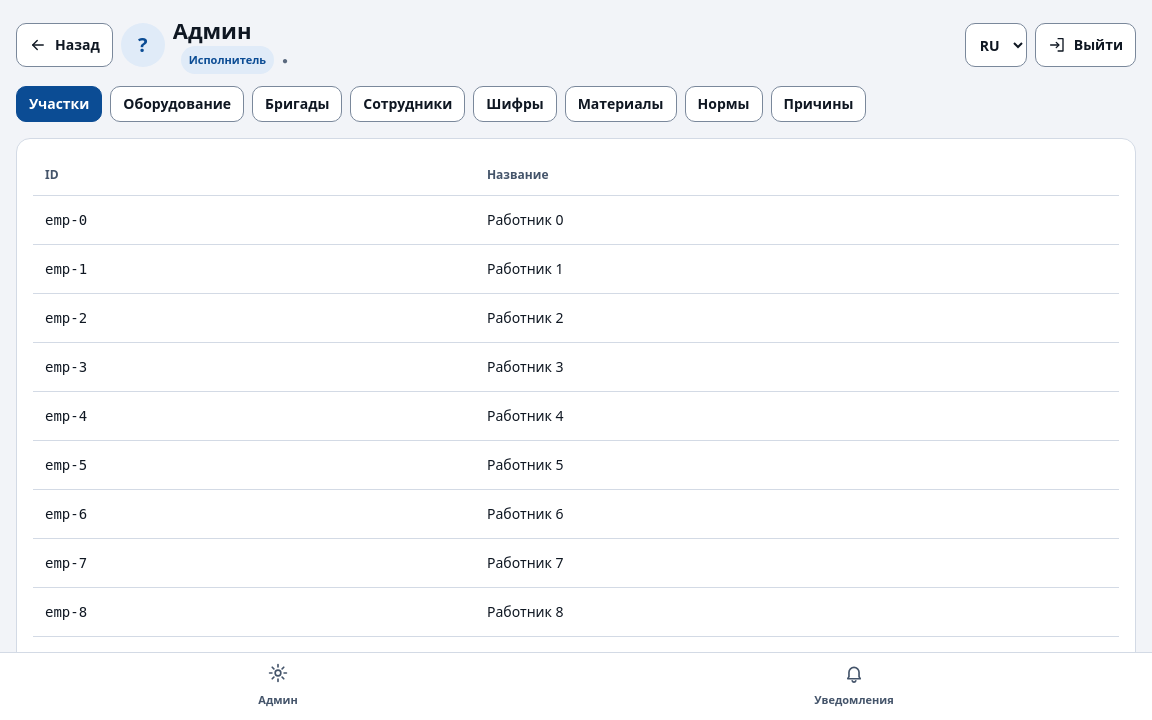
Test case: AdminPage employees › paginates long tables
The width and height of the screenshot is (1152, 720).
Expected: the text "Работник 0" is shown, [475, 196, 1119, 244]
Click the button "Сотрудники" at (408, 104), box [350, 86, 465, 122]
(page scrolled)
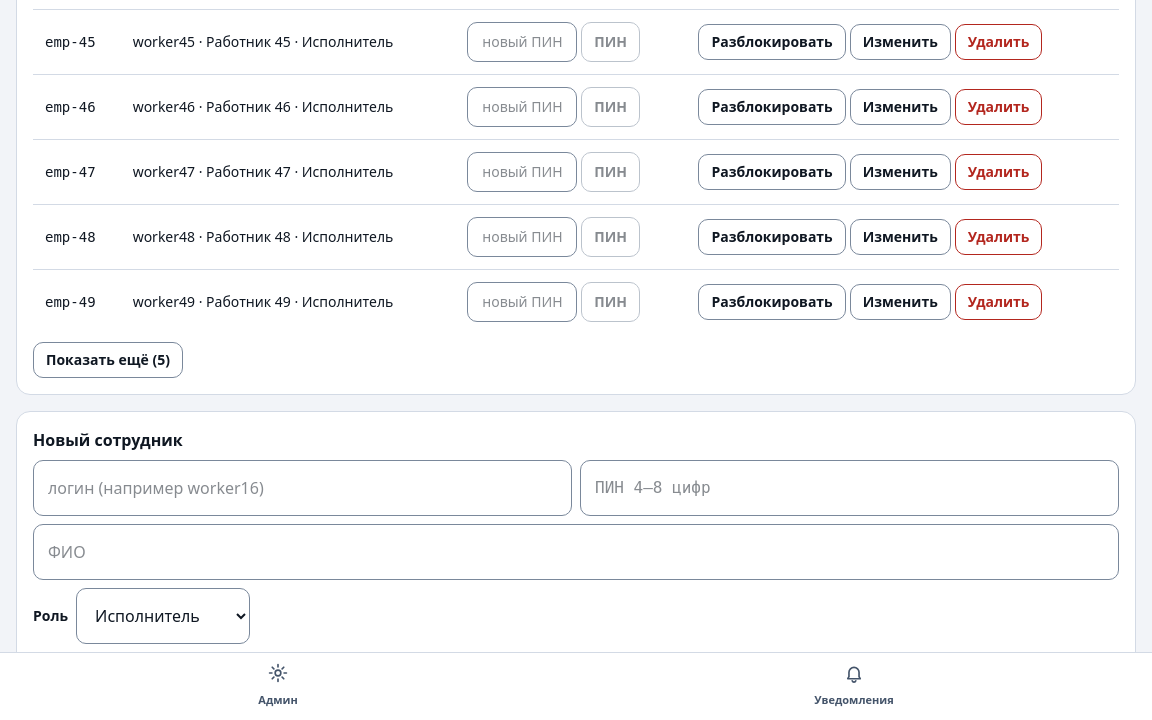
Expected: the text "worker54" is not shown
Click the button "Показать ещё (5)" at (108, 360), box [33, 342, 183, 378]
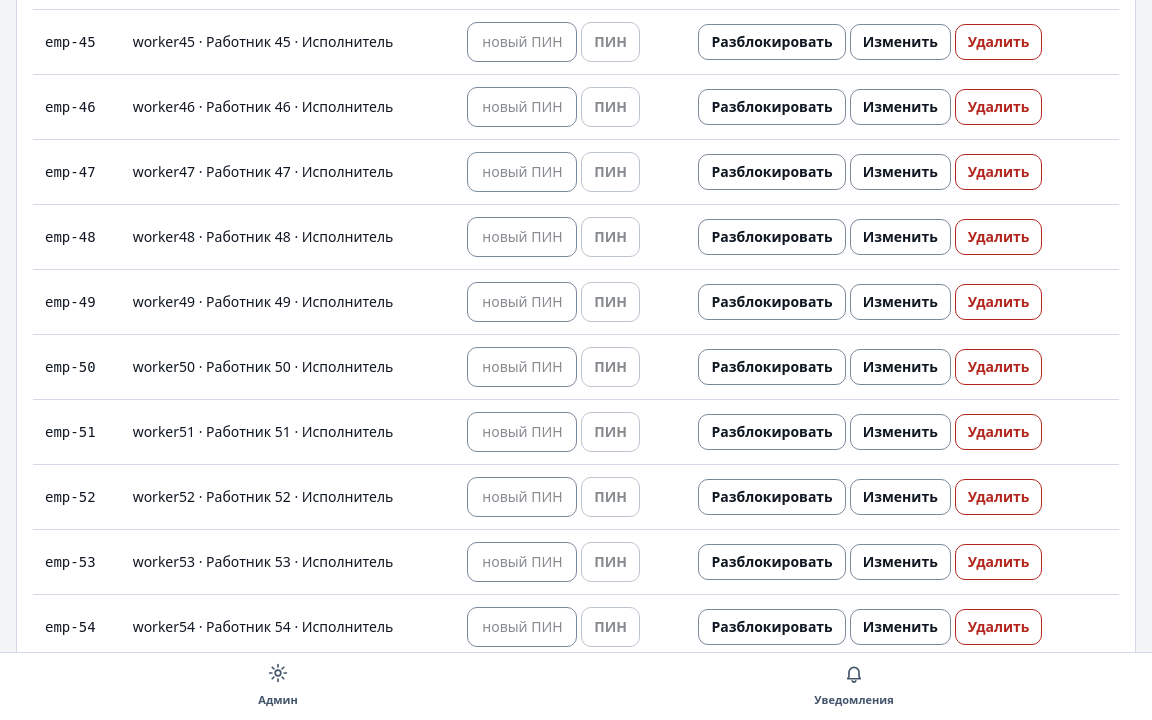
Result: the text "worker54 · Работник 54 · Исполнитель" is shown at [121, 594, 455, 659]
